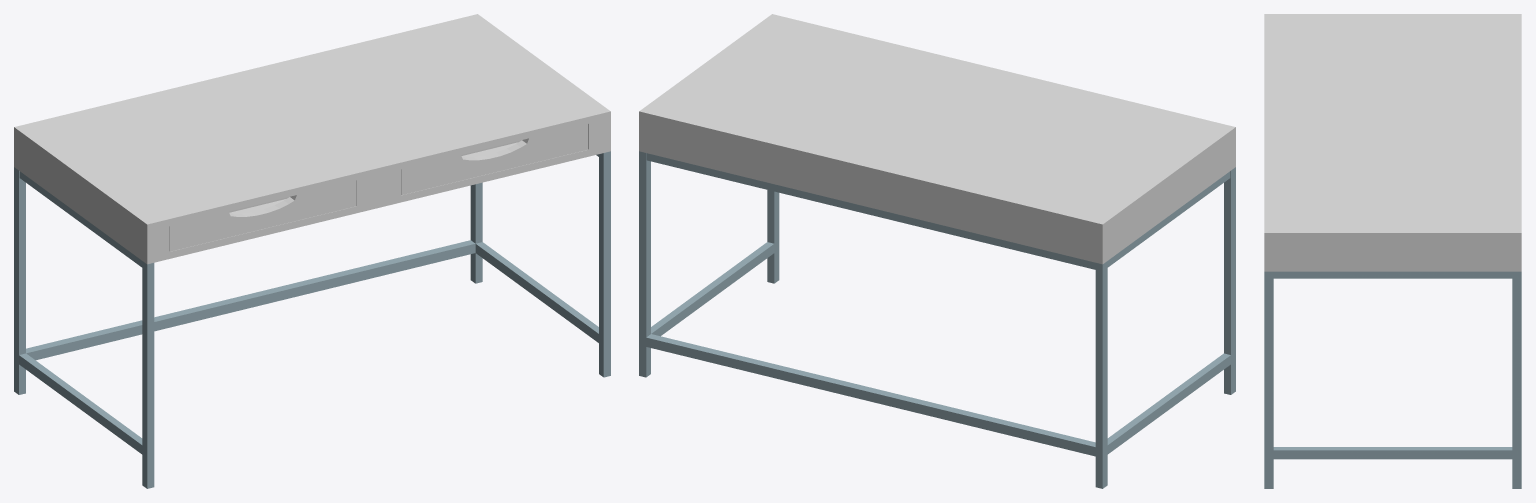
Rendered from Desk.fbx.
3 renders of one model, left to right at view 1: azimuth 30°, elevation 25°; view 2: azimuth 150°, elevation 25°; view 3: azimuth 270°, elevation 25°, orthographic. The views are drawn at different scales.
Visible parts, largest first — view 1: Desk; view 2: Desk; view 3: Desk.
Boxes of the visible parts, left/top/right/bottom form: Desk: left=14, top=14, right=610, bottom=488; Desk: left=639, top=14, right=1235, bottom=488; Desk: left=1264, top=14, right=1521, bottom=488.
Size of the model in its own units: 146 by 79.44 by 72.47.
